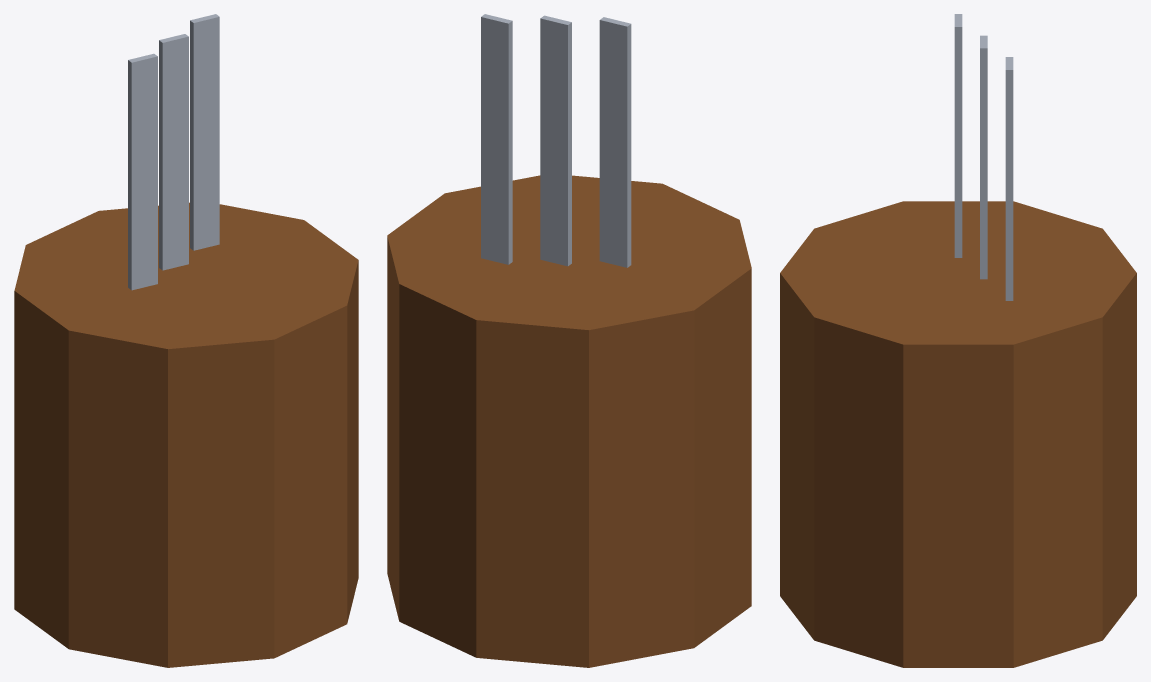
The model's file is barrel_swords.glb.
3 renders of one model, left to right at view 1: azimuth 30°, elevation 25°; view 2: azimuth 150°, elevation 25°; view 3: azimuth 270°, elevation 25°, orthographic. The views are drawn at different scales.
Parts seen in each view (by area): view 1: barrel_swords; view 2: barrel_swords; view 3: barrel_swords.
Boxes of the visible parts, x1,y1,x2,y2 form: barrel_swords: (14,14,358,667); barrel_swords: (387,14,751,667); barrel_swords: (780,14,1136,667).
Bounding box in the file's own units: 0.6657 × 1.2 × 0.7.
